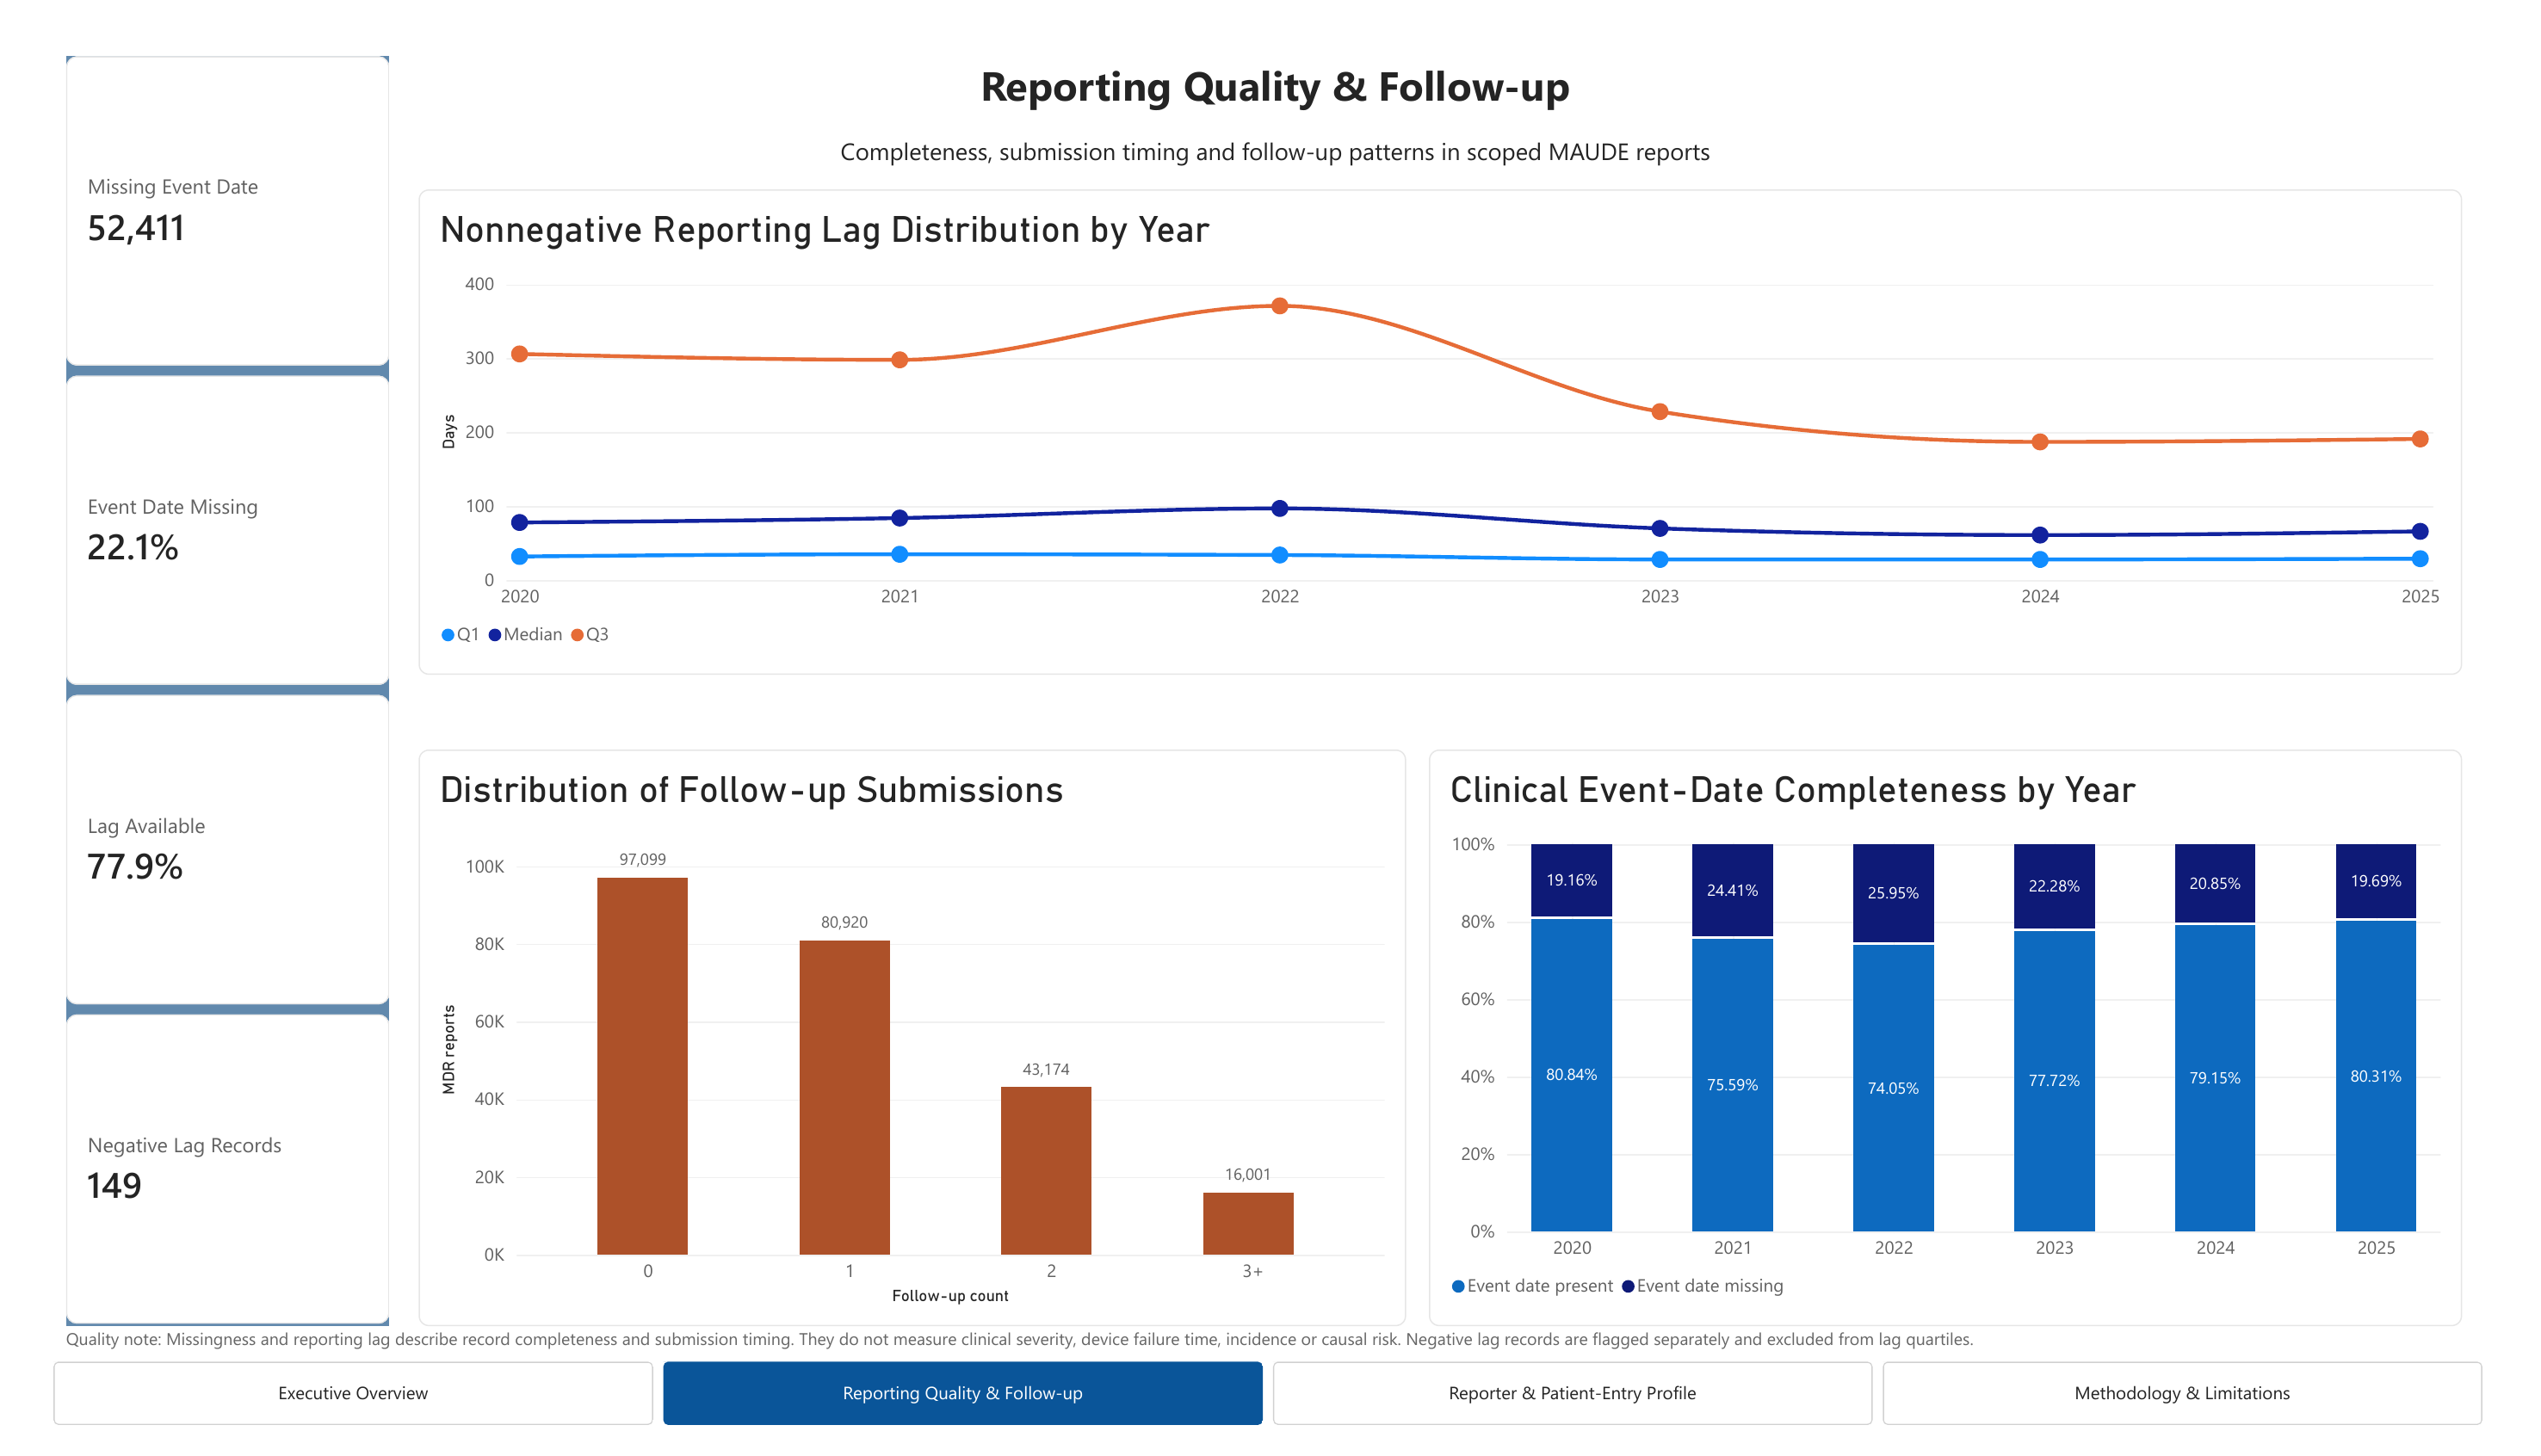

Layout of this report page (visuals, bound fields, positions):
{"tool":"powerbi","page":{"name":"Reporting Quality & Follow-up","canvas":[1920,1080],"ordinal":1},"visuals":[{"type":"textbox","box":[10,0,1908.3,105.6],"z":0},{"type":"textbox","box":[10,1001.7,1890,25],"z":500},{"type":"hundredPercentStackedColumnChart","title":"Clinical Event-Date Completeness by Year","fields":{"Category":["DimYear.Year"],"Y":["Sum(EventDateCompleteness.EventDatePresent)","Sum(EventDateCompleteness.EventDateMissing)"]},"box":[1085,546.7,815,455],"z":1000},{"type":"cardVisual","fields":{"Data":["_Measures.Reports Missing Event Date","_Measures.Event Date Missing %","_Measures.Lag Available %","_Measures.Negative Lag Rows"]},"box":[10,0,255,1001.7],"z":2000},{"type":"lineChart","title":"Nonnegative Reporting Lag Distribution by Year","fields":{"Category":["DimYear.Year"],"Y":["Sum(ReportingLag.Q1NonnegativeLagDays)","Sum(ReportingLag.MedianNonnegativeLagDays)","Sum(ReportingLag.Q3NonnegativeLagDays)"]},"box":[288.3,105,1611.7,383.3],"z":3000},{"type":"clusteredColumnChart","title":"Distribution of Follow-up Submissions","fields":{"Category":["FollowupSummary.Follow-up Bucket Display"],"Y":["Sum(FollowupSummary.ReportCount)"]},"box":[288.3,546.7,778.3,455],"z":4000},{"type":"pageNavigator","box":[0,1030,1918.3,50],"z":4001}]}

Visuals, with their boxes in screenshot pixels (x1, y1, x2, y2), scaled from the page's 1920x1080 canvas onto the 2541x1456 screenshot:
textbox: x1=13, y1=0, x2=2538, y2=142
textbox: x1=13, y1=1350, x2=2514, y2=1384
"Clinical Event-Date Completeness by Year" hundredPercentStackedColumnChart: x1=1436, y1=737, x2=2514, y2=1350
cardVisual - _Measures.Reports Missing Event Date x _Measures.Event Date Missing %: x1=13, y1=0, x2=350, y2=1350
"Nonnegative Reporting Lag Distribution by Year" lineChart: x1=381, y1=141, x2=2514, y2=658
"Distribution of Follow-up Submissions" clusteredColumnChart: x1=381, y1=737, x2=1412, y2=1350
pageNavigator: x1=0, y1=1389, x2=2538, y2=1455
